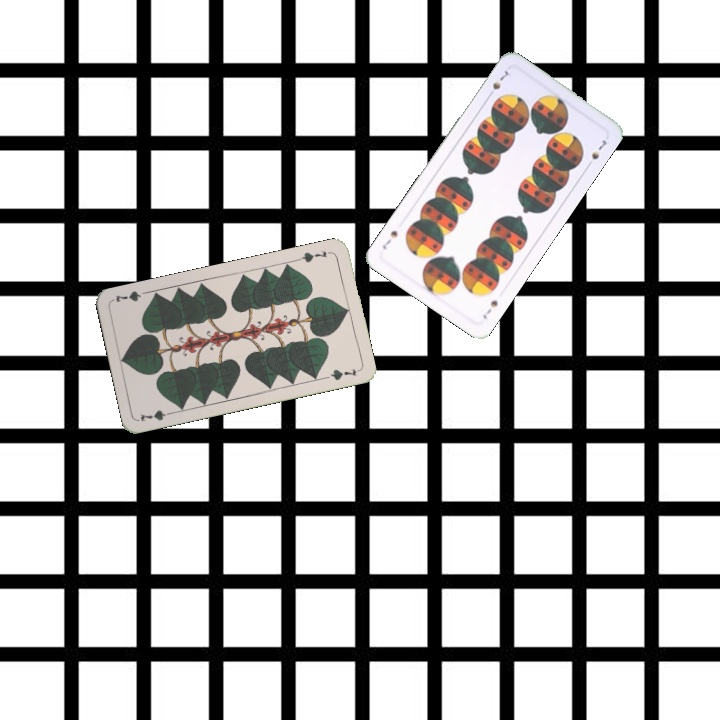G7: (136, 406, 176, 424), (294, 246, 329, 265)
S7: (483, 65, 513, 100), (479, 296, 500, 322)
